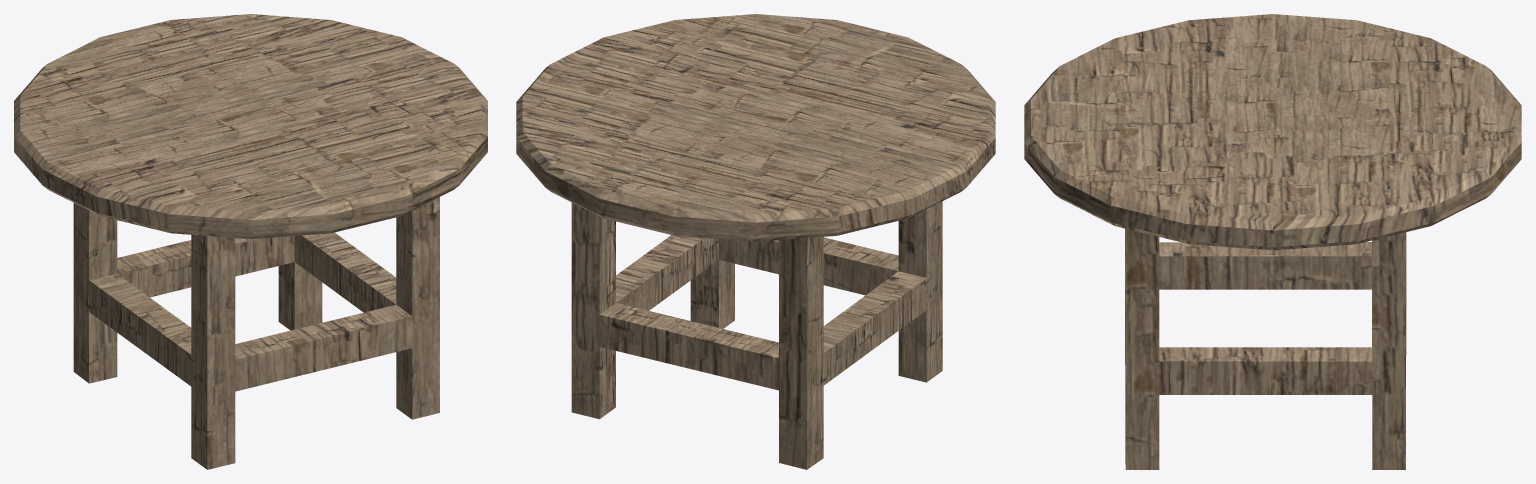
Rendered from Wooden Stool.FBX.
The picture shows the model from 3 angles, left to right: view 1: azimuth 30°, elevation 25°; view 2: azimuth 150°, elevation 25°; view 3: azimuth 270°, elevation 25°; orthographic projection. The views are drawn at different scales.
Visible parts, largest first — view 1: Wooden Stool; view 2: Wooden Stool; view 3: Wooden Stool.
Part boxes in pixels (<box>): Wooden Stool: <box>14,14,487,469</box>; Wooden Stool: <box>516,14,995,469</box>; Wooden Stool: <box>1024,14,1521,469</box>.
Size of the model in its own units: 47.24 by 30.06 by 46.53.
Materials: 1 (1 with a texture image).
